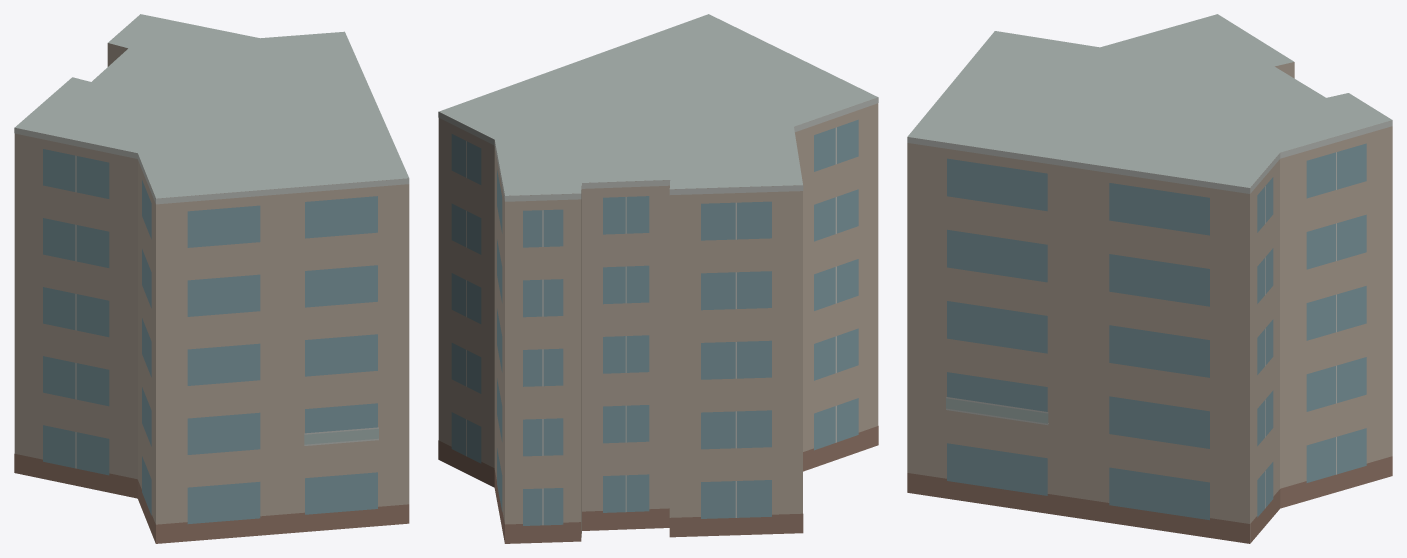
The model's file is survey-upis-32868698.glb.
3 renders of one model, left to right at view 1: azimuth 30°, elevation 25°; view 2: azimuth 150°, elevation 25°; view 3: azimuth 270°, elevation 25°, orthographic. The views are drawn at different scales.
Parts seen in each view (by area): view 1: survey-upis-32868698.tmp; view 2: survey-upis-32868698.tmp; view 3: survey-upis-32868698.tmp.
Boxes of the visible parts, x1,y1,x2,y2 form: survey-upis-32868698.tmp: [14, 14, 409, 543]; survey-upis-32868698.tmp: [438, 14, 878, 543]; survey-upis-32868698.tmp: [907, 14, 1392, 543].
Size of the model in its own units: 15.11 by 14.4 by 17.81.
